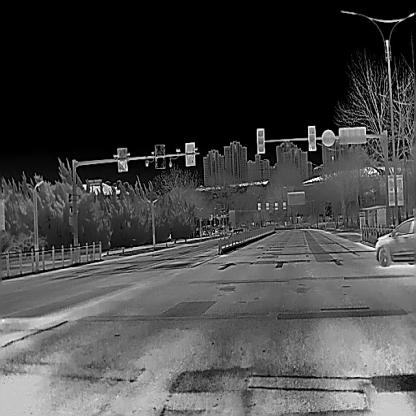car: (374, 216, 414, 266)
